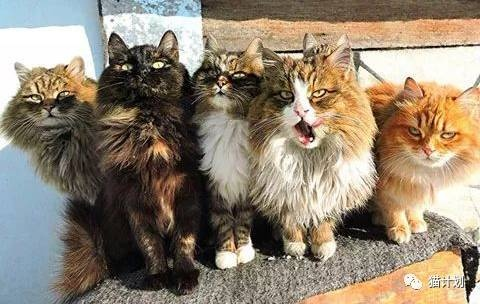cat: (69, 32, 201, 297), (252, 32, 378, 262), (1, 58, 101, 300), (362, 77, 480, 245), (192, 32, 267, 269)
